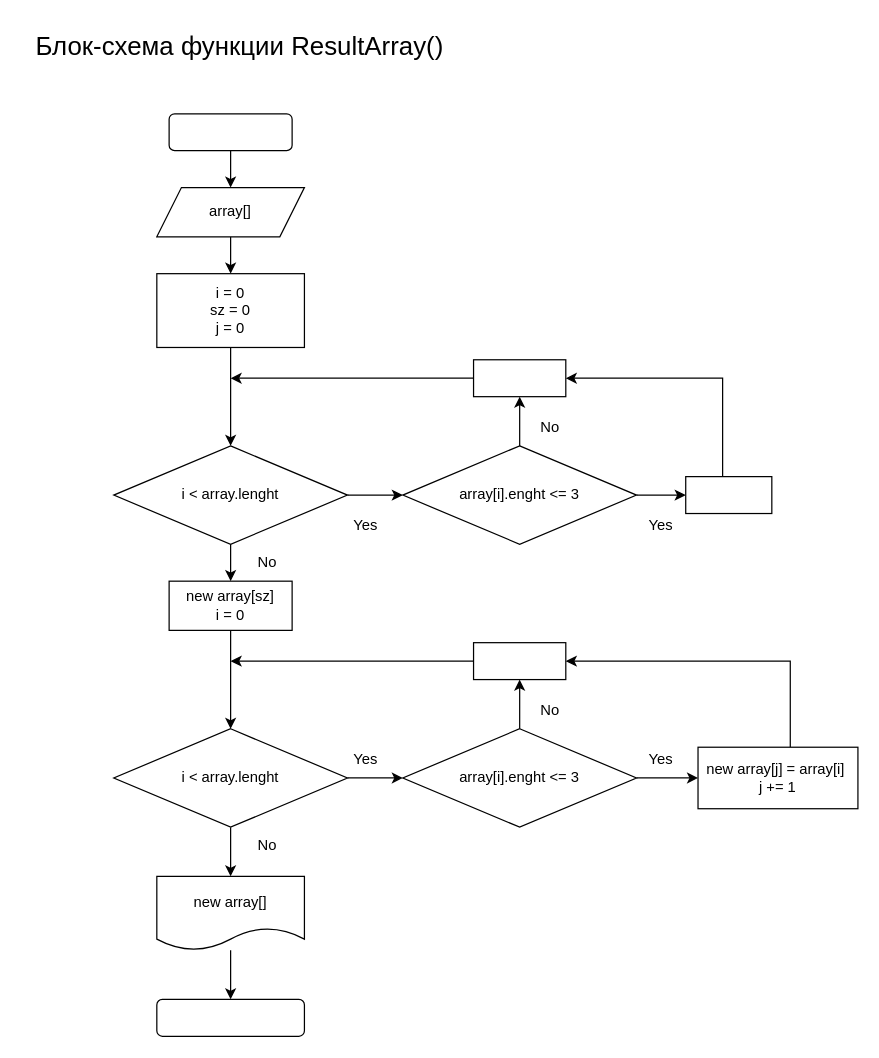
Some shapes in this 879 by 1058 pixel diagram are drawn without their labels. The centre of each missing label's shape, as x and y in pixels:
End: [230,1017]
i += 1: [519,378]
i +=1: [519,660]
Start: [230,132]
sz += 1: [728,494]
